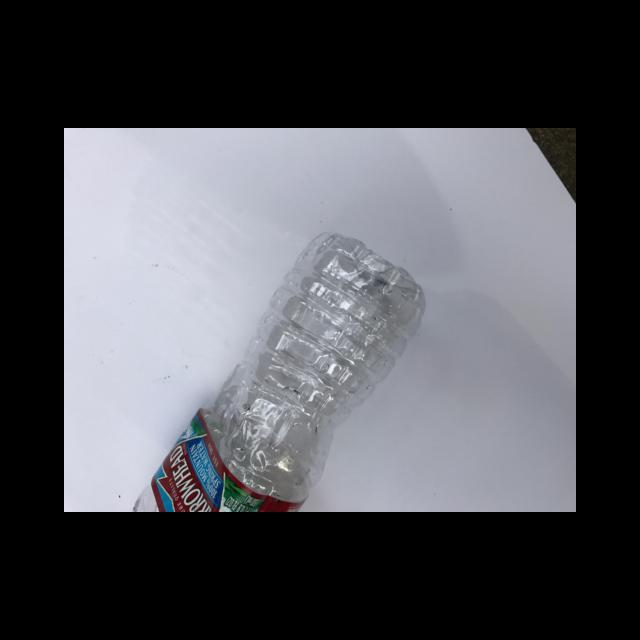plastic: (131, 231, 425, 511), (150, 408, 307, 511)
